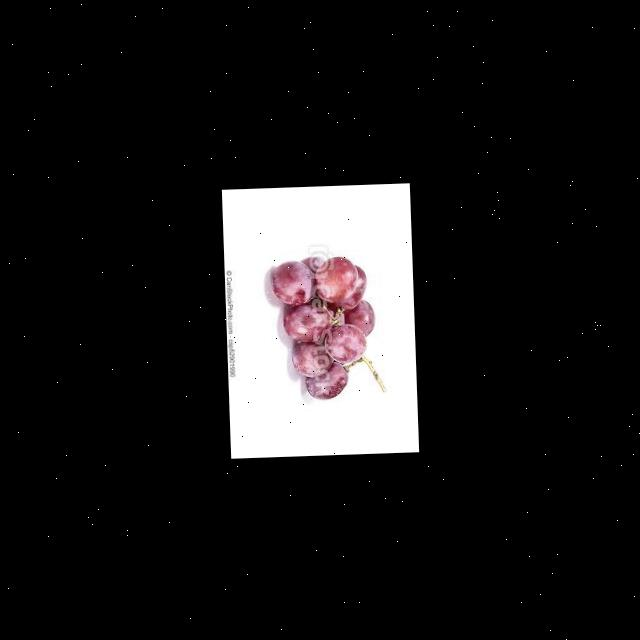grape: (270, 251, 386, 400)
